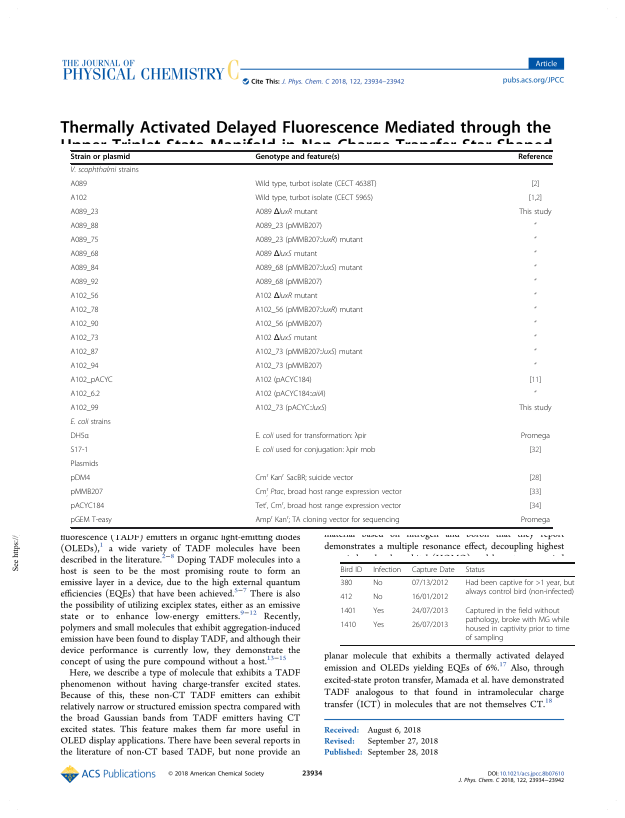borderless: (69, 149, 552, 527), (340, 561, 575, 645)
cell: (464, 606, 570, 643), (464, 578, 575, 597), (254, 486, 402, 498), (254, 500, 402, 512), (254, 514, 400, 526), (254, 180, 377, 190), (254, 446, 376, 456), (254, 194, 374, 204), (254, 472, 354, 484), (254, 432, 367, 442), (254, 236, 364, 246), (254, 306, 364, 316), (254, 264, 363, 274), (254, 348, 363, 358), (254, 153, 341, 162), (254, 404, 327, 414), (254, 390, 326, 400), (70, 166, 140, 176), (254, 222, 323, 232), (254, 278, 323, 288), (254, 320, 323, 330), (254, 362, 323, 372), (254, 208, 318, 218), (254, 250, 318, 260), (254, 292, 318, 302), (254, 334, 318, 344), (254, 376, 312, 386), (70, 153, 131, 162), (70, 376, 114, 386), (70, 516, 113, 526), (70, 418, 112, 428), (411, 565, 455, 574), (411, 578, 449, 588), (411, 592, 449, 602), (411, 606, 449, 616), (411, 620, 449, 630), (70, 502, 105, 512), (518, 208, 552, 218), (518, 404, 552, 414), (70, 488, 104, 498), (517, 153, 553, 162), (70, 390, 101, 400), (520, 432, 551, 442), (520, 516, 551, 526), (70, 208, 99, 218), (70, 222, 99, 232), (70, 236, 99, 246), (70, 250, 99, 260), (70, 264, 99, 274), (70, 278, 99, 288), (70, 292, 99, 302), (70, 306, 99, 316), (70, 320, 99, 330), (70, 334, 99, 344), (70, 348, 99, 358), (70, 362, 99, 372), (70, 404, 99, 414), (70, 460, 99, 470), (372, 565, 402, 574), (70, 474, 91, 484), (340, 565, 363, 574), (70, 432, 90, 442), (464, 565, 486, 574), (70, 446, 89, 456), (70, 180, 88, 190), (70, 194, 88, 204), (340, 606, 357, 616), (340, 620, 357, 630), (528, 194, 543, 204), (528, 376, 542, 386), (528, 446, 542, 456), (528, 474, 542, 484), (528, 488, 542, 498), (528, 502, 542, 512), (340, 578, 353, 588), (340, 592, 353, 602), (372, 606, 385, 616), (372, 620, 385, 630), (372, 578, 383, 588), (372, 592, 383, 602), (530, 180, 540, 190), (533, 222, 537, 230), (533, 236, 537, 244), (533, 250, 537, 258), (533, 264, 537, 272), (533, 278, 537, 286), (533, 292, 537, 300), (533, 306, 537, 314), (533, 320, 537, 328), (533, 334, 537, 342), (533, 348, 537, 356), (533, 362, 537, 370), (533, 390, 537, 398)
